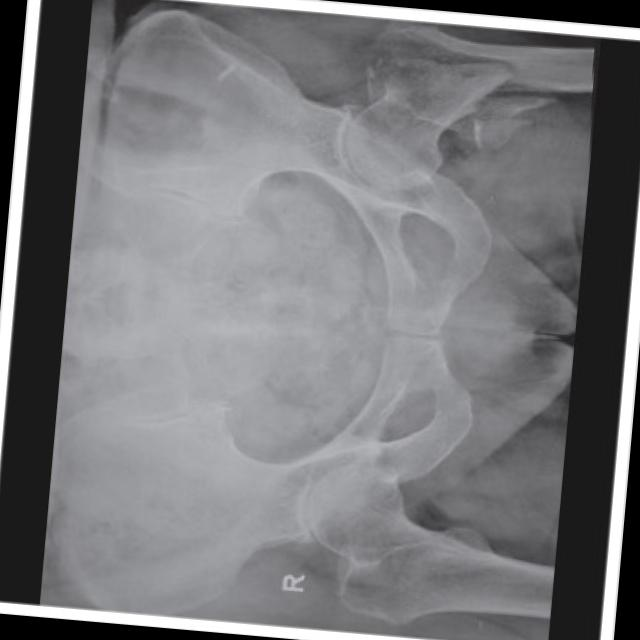left-intertrochanteric: (345, 57, 513, 189), (365, 20, 558, 130)
left-lesser-trochanter: (475, 118, 532, 149), (478, 94, 557, 116)
normal-right: (306, 462, 554, 624)
